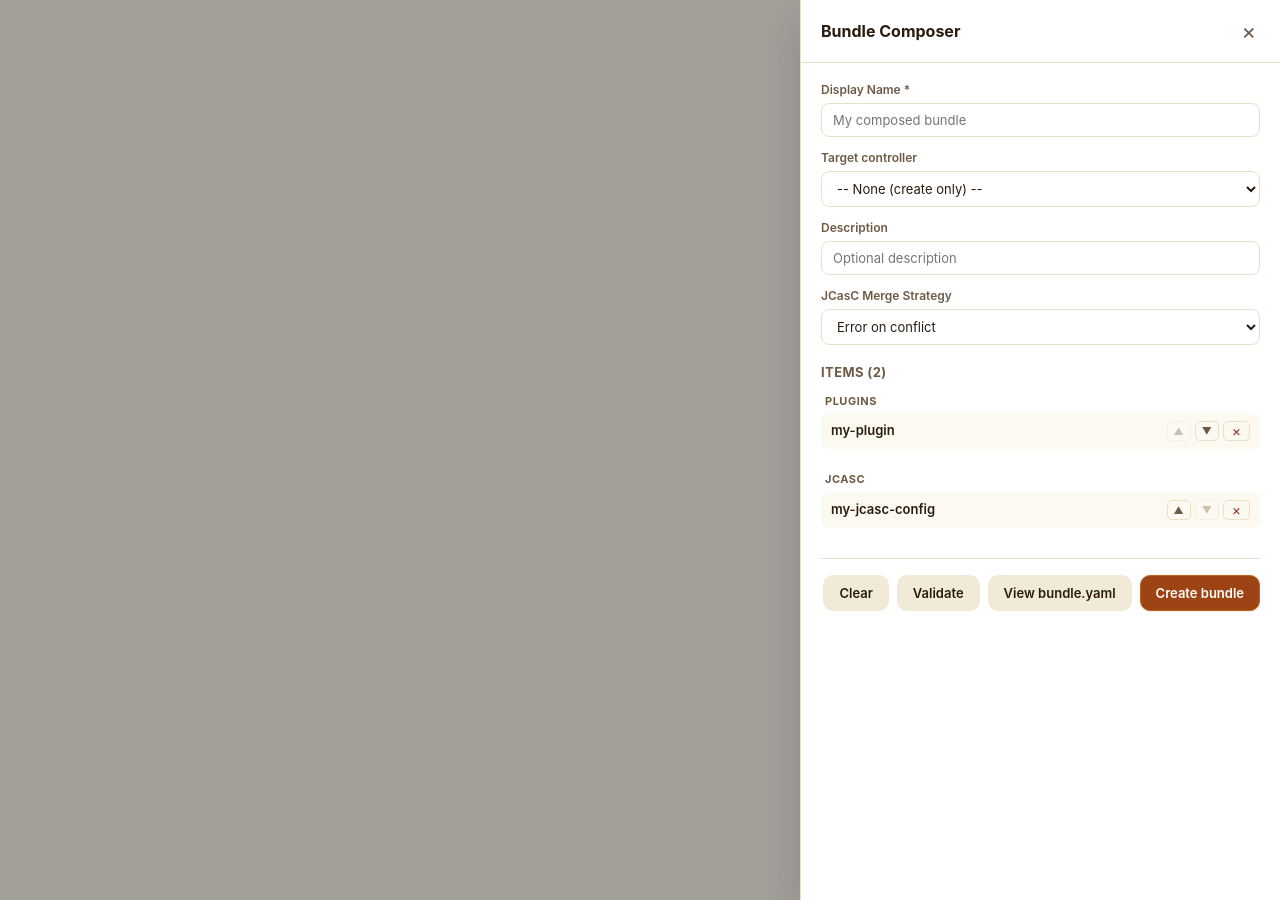
ComposerTray › With items › shows "Create + Attach" when a target controller is selected
Select a target controller
Select "ctrl-one (default)" in the dropdown below "Target controller" at (1040, 189), box [821,171,1260,207]
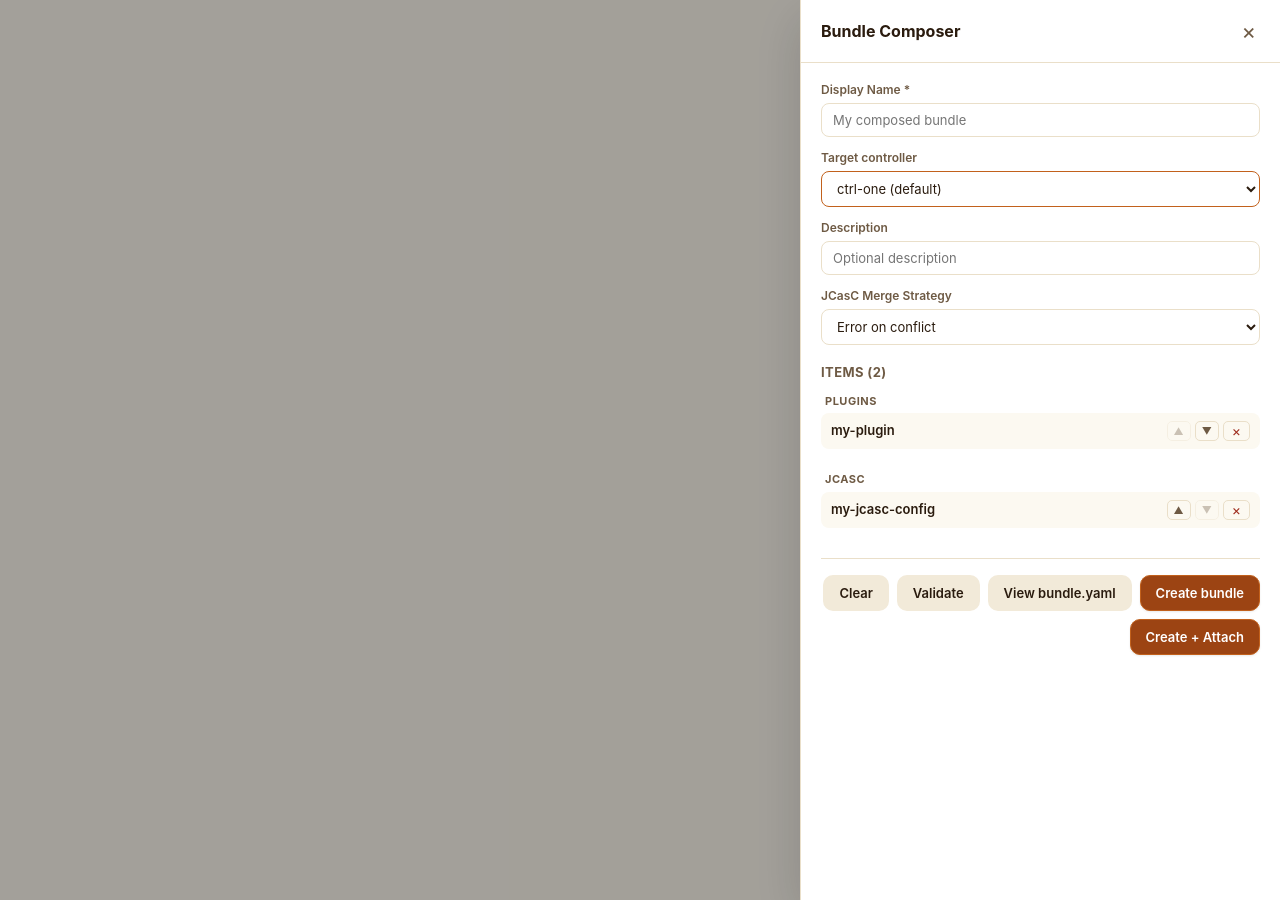
Result: the button "Create + Attach" is shown at [1130,618,1260,654]
